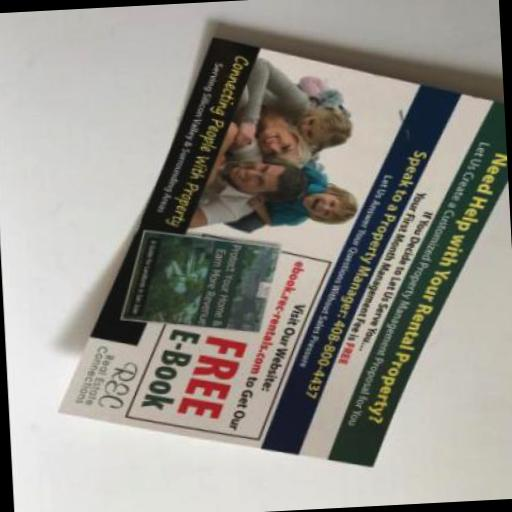paper: (37, 24, 512, 485)
